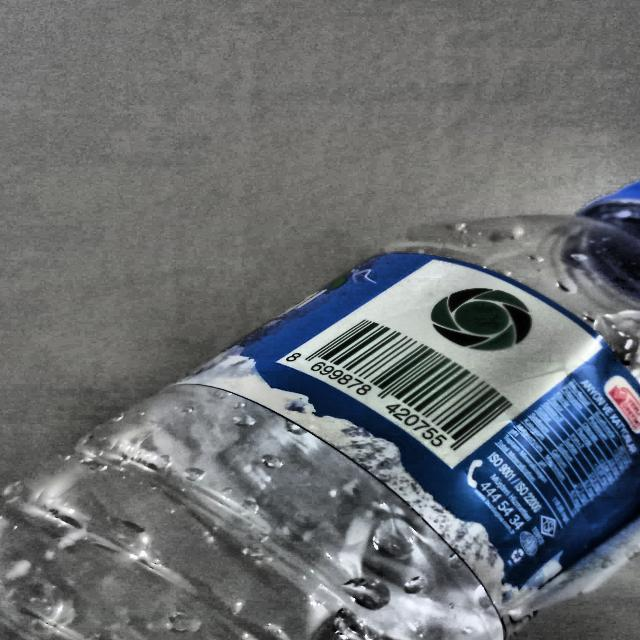plastic: (0, 183, 640, 640)
